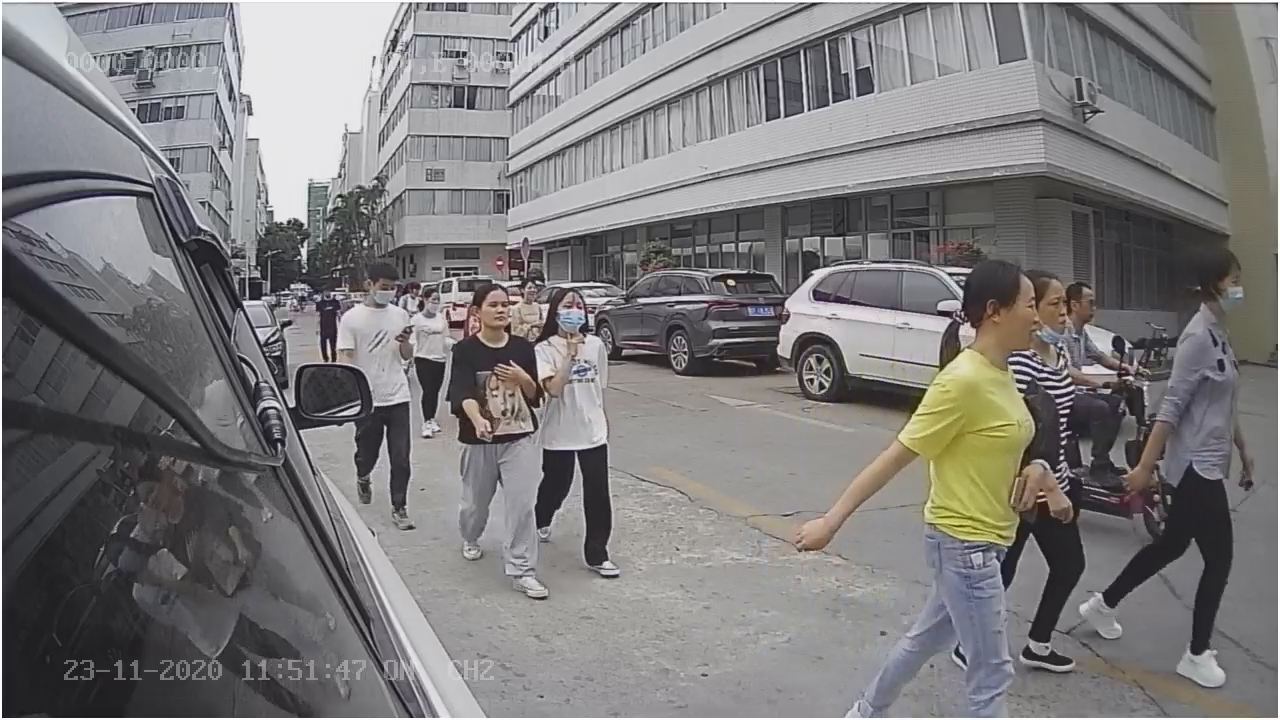person: (1080, 243, 1243, 684), (447, 275, 550, 600)
